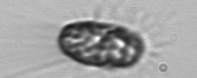plankton: (53, 16, 153, 72)
